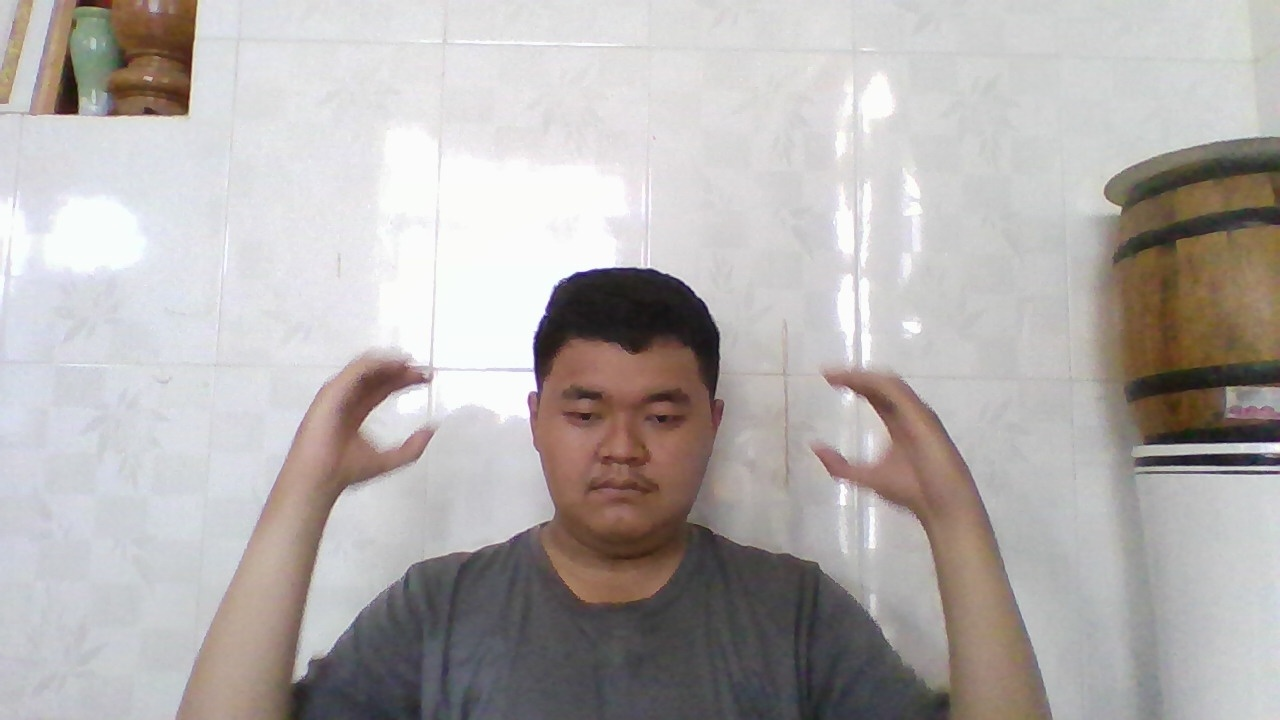C: (801, 356, 944, 513), (319, 341, 442, 484)
